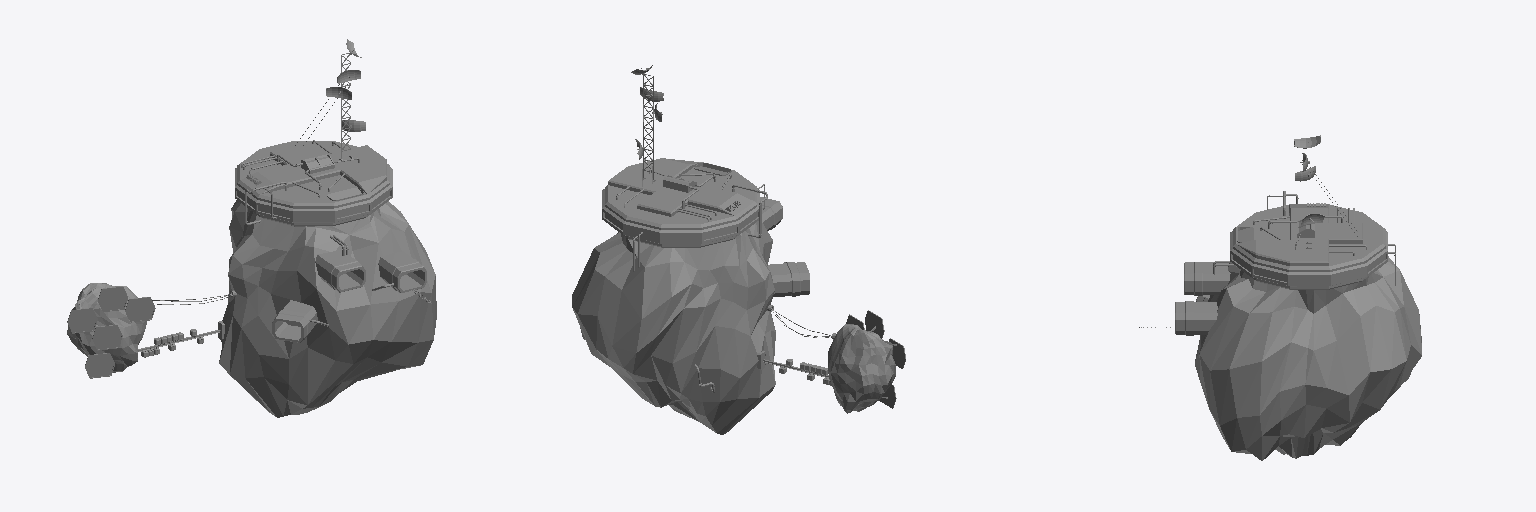
Rendered from konostationobj.obj.
3 views of the same model, side by side, from view 1: azimuth 30°, elevation 25°; view 2: azimuth 150°, elevation 25°; view 3: azimuth 270°, elevation 25° (orthographic).
Parts seen in each view (by area): view 1: d_station; view 2: d_station; view 3: d_station.
Part boxes in pixels (bbox=[...]): d_station: bbox=[67, 39, 436, 417]; d_station: bbox=[572, 65, 905, 434]; d_station: bbox=[1139, 135, 1421, 460].
Size of the model in its own units: 319 by 327 by 241.